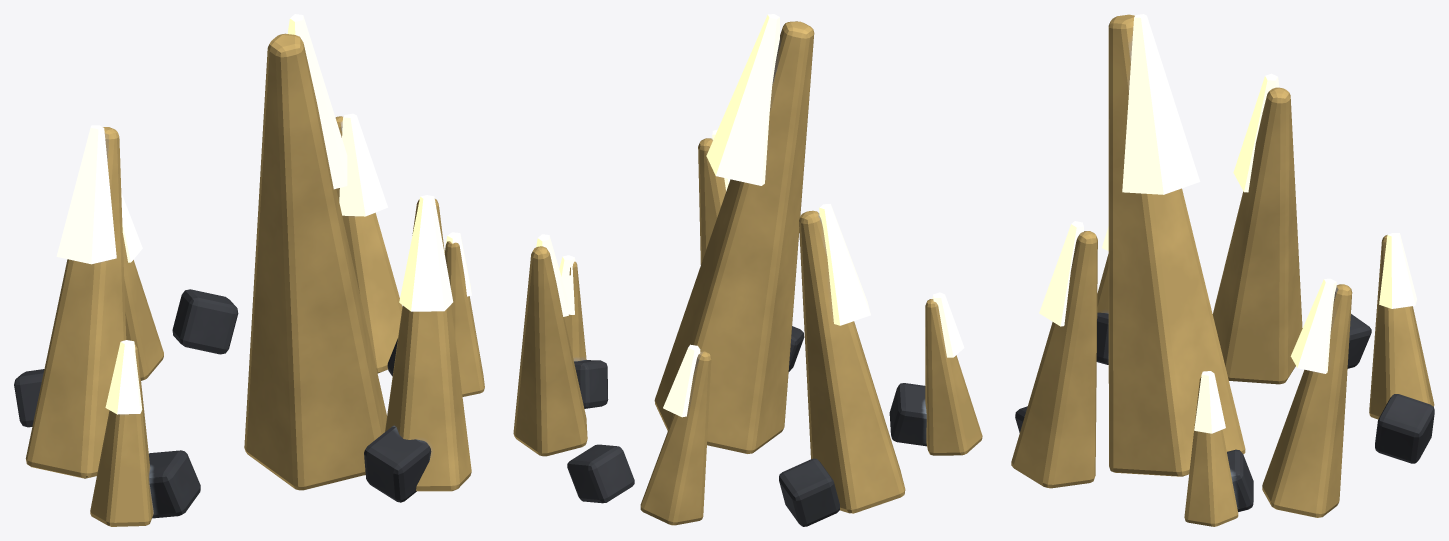
File: ferrite_cluster.glb
3 views of the same model, side by side, from view 1: azimuth 30°, elevation 25°; view 2: azimuth 150°, elevation 25°; view 3: azimuth 270°, elevation 25° (orthographic). The views are drawn at different scales.
Visible parts, largest first — view 1: ferrite_cluster; view 2: ferrite_cluster; view 3: ferrite_cluster.
Boxes of the visible parts, bbox=[...] form: ferrite_cluster: bbox=[14, 14, 484, 526]; ferrite_cluster: bbox=[513, 14, 982, 526]; ferrite_cluster: bbox=[1011, 14, 1434, 526].
Bounding box in the file's own units: 1.36 × 1.4 × 1.24.
Materials: 1 (1 with a texture image).
